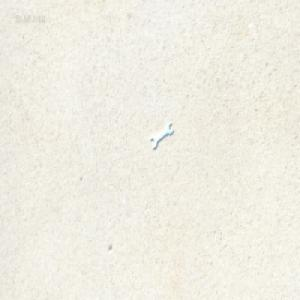Wrench: (150, 120, 172, 148)
